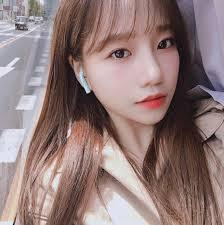earphone: (75, 66, 94, 96)
